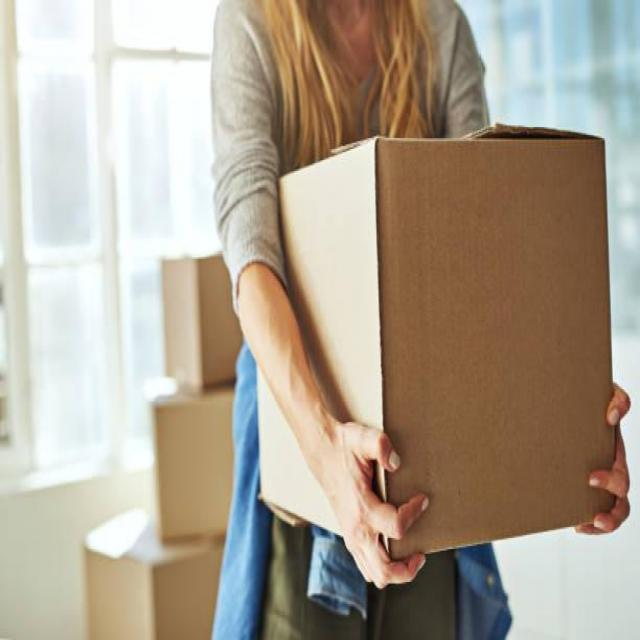box: (255, 115, 621, 552)
